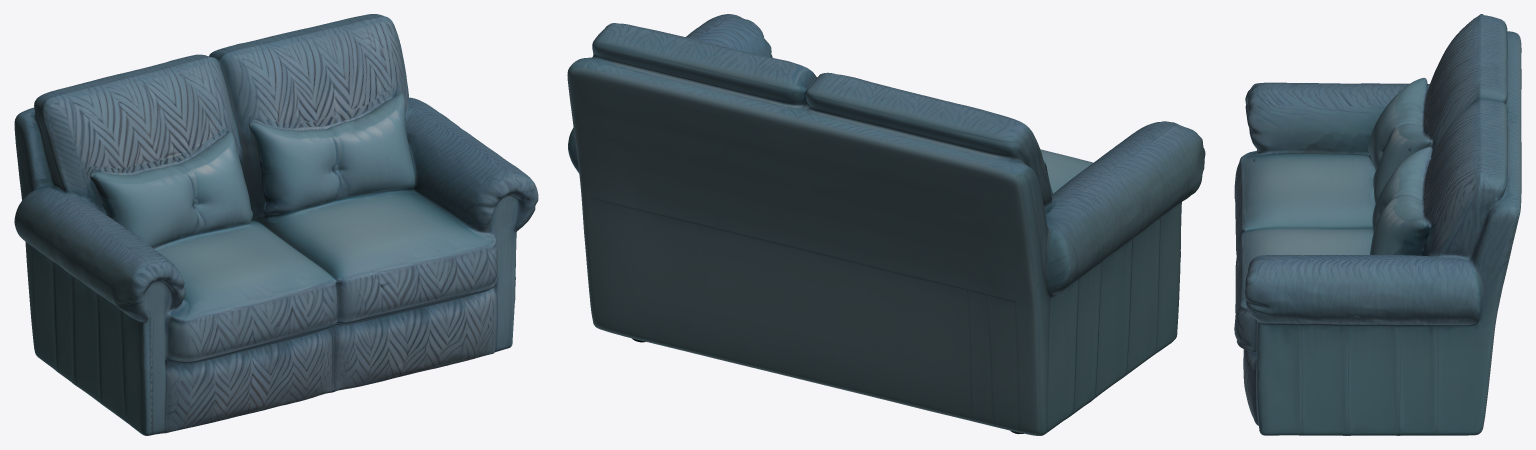
Rendered from romantex_27.glb.
3 views of the same model, side by side, from view 1: azimuth 30°, elevation 25°; view 2: azimuth 150°, elevation 25°; view 3: azimuth 270°, elevation 25° (orthographic). The views are drawn at different scales.
Parts seen in each view (by area): view 1: texture_v130_hdr_21w_pbr_dino_11w.001; view 2: texture_v130_hdr_21w_pbr_dino_11w.001; view 3: texture_v130_hdr_21w_pbr_dino_11w.001.
Boxes of the visible parts, box(x1,y1,x2,y2) form: texture_v130_hdr_21w_pbr_dino_11w.001: box(14, 14, 538, 435); texture_v130_hdr_21w_pbr_dino_11w.001: box(567, 14, 1205, 435); texture_v130_hdr_21w_pbr_dino_11w.001: box(1234, 14, 1521, 435).
Bounding box in the file's own units: 2 × 1.22 × 1.2.
1 material, 1 textured.
